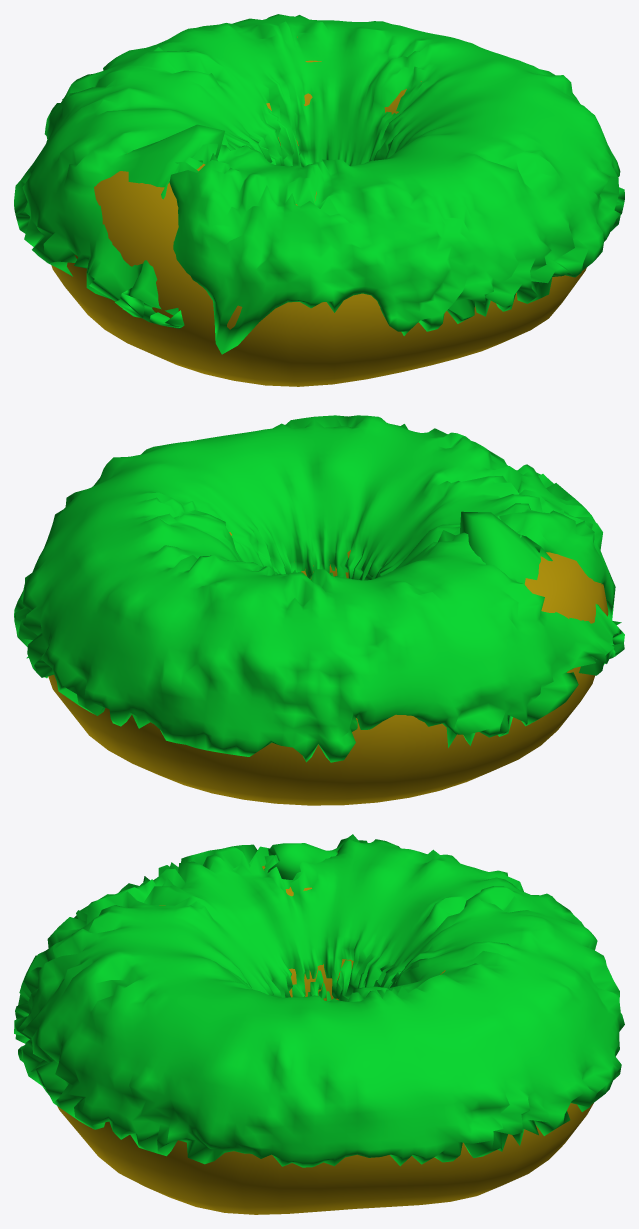
The model's file is 5.4 CreateAModel.glb.
3 views of the same model, one above another, from view 1: azimuth 30°, elevation 25°; view 2: azimuth 150°, elevation 25°; view 3: azimuth 270°, elevation 25° (orthographic).
Visible parts, largest first — view 1: Icing, Donut; view 2: Icing, Donut; view 3: Icing, Donut.
Boxes of the visible parts, x1=… form: Icing: x1=14, y1=14, x2=624, y2=354; Donut: x1=51, y1=36, x2=586, y2=386; Icing: x1=14, y1=415, x2=624, y2=762; Donut: x1=48, y1=532, x2=608, y2=805; Icing: x1=14, y1=834, x2=624, y2=1167; Donut: x1=57, y1=865, x2=593, y2=1214.
Bounding box in the file's own units: 0.1023 × 0.0427 × 0.1038.
